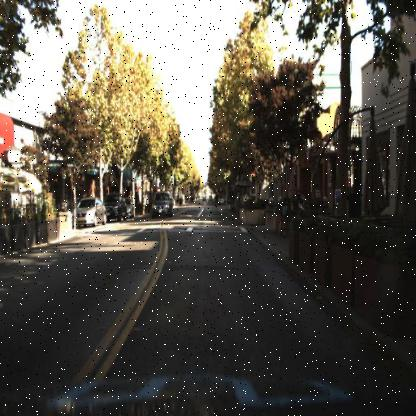car: (71, 196, 109, 225), (73, 196, 106, 229), (102, 191, 126, 224), (150, 190, 174, 219), (106, 192, 127, 223), (150, 192, 172, 219)
